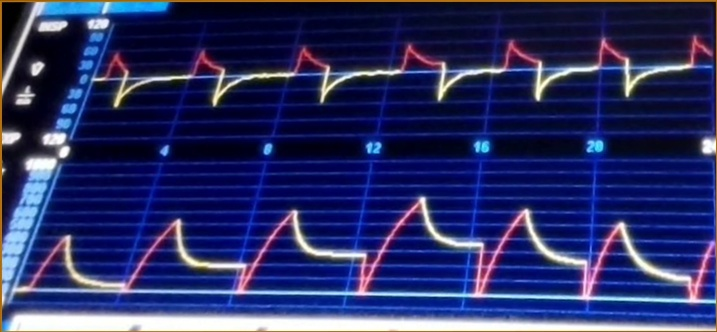Flow: (105, 28, 712, 129)
Leakage Volume: (48, 182, 712, 308)
